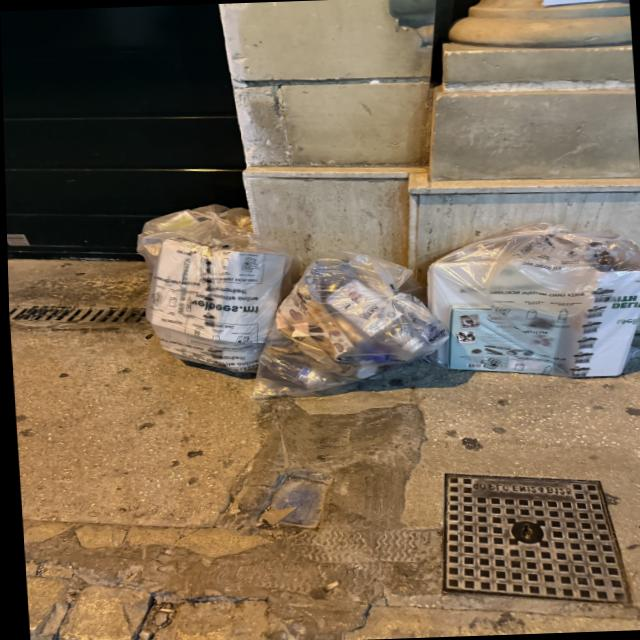Recyclable Material -Grey Bags-: (134, 204, 640, 398)
